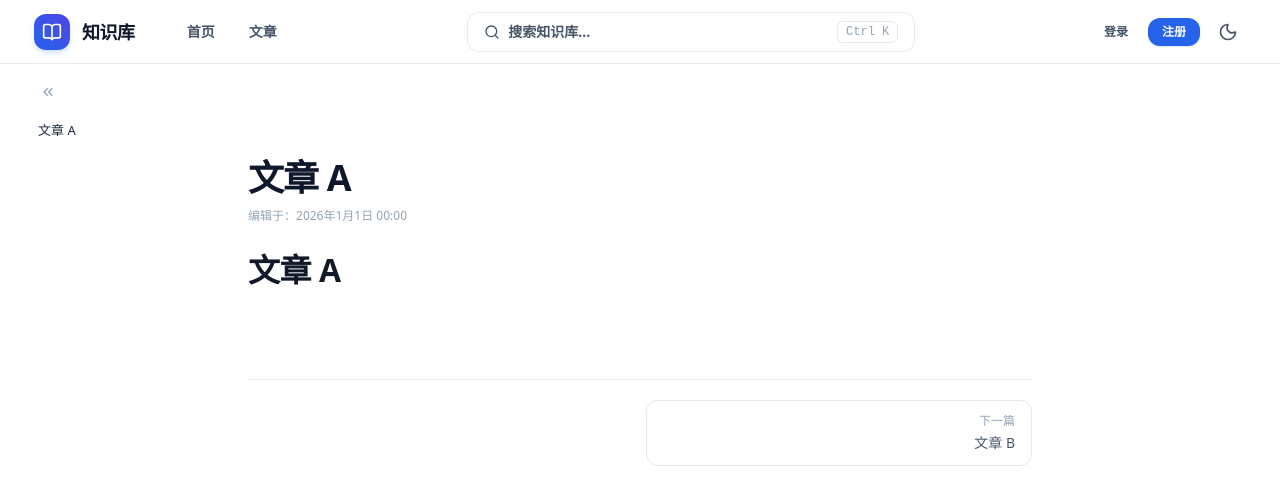
public document routing › loads a document only once for one route navigation, including StrictMode
The image size is (1280, 483).
Expected: the 1st heading "文章 A" is shown, [248,153,351,202]
Click the link "下一篇 文章 B" at (997, 420), box [646,400,1032,466]
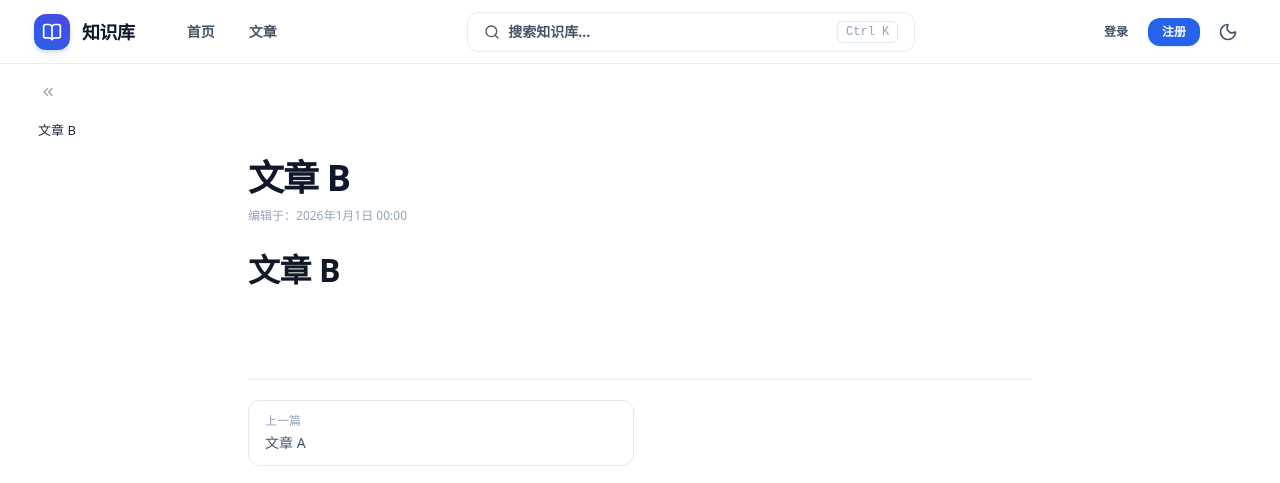
Result: the 1st heading "文章 B" is shown at [248,153,350,202]
